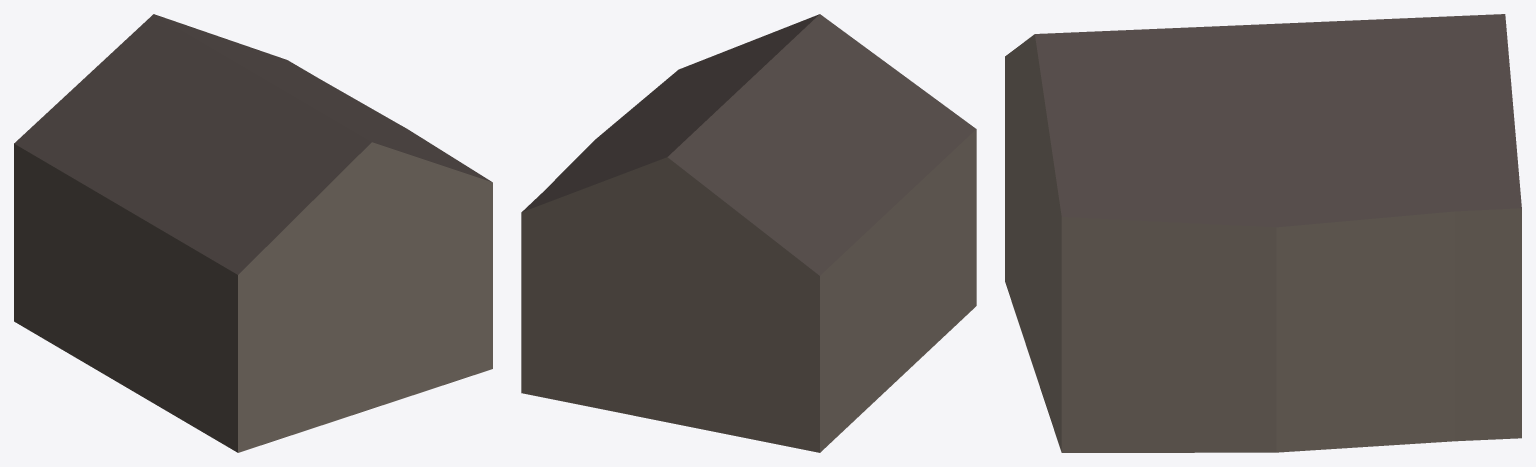
3 views of the same model, side by side, from view 1: azimuth 30°, elevation 25°; view 2: azimuth 150°, elevation 25°; view 3: azimuth 270°, elevation 25° (orthographic). The views are drawn at different scales.
Parts seen in each view (by area): view 1: HP-w1512965864; view 2: HP-w1512965864; view 3: HP-w1512965864.
Part boxes in pixels (x1,y1,x2,y2): HP-w1512965864: (14,14,492,452); HP-w1512965864: (521,14,976,452); HP-w1512965864: (1005,14,1521,452).
Bounding box in the file's own units: 16.44 × 13.49 × 18.72.
